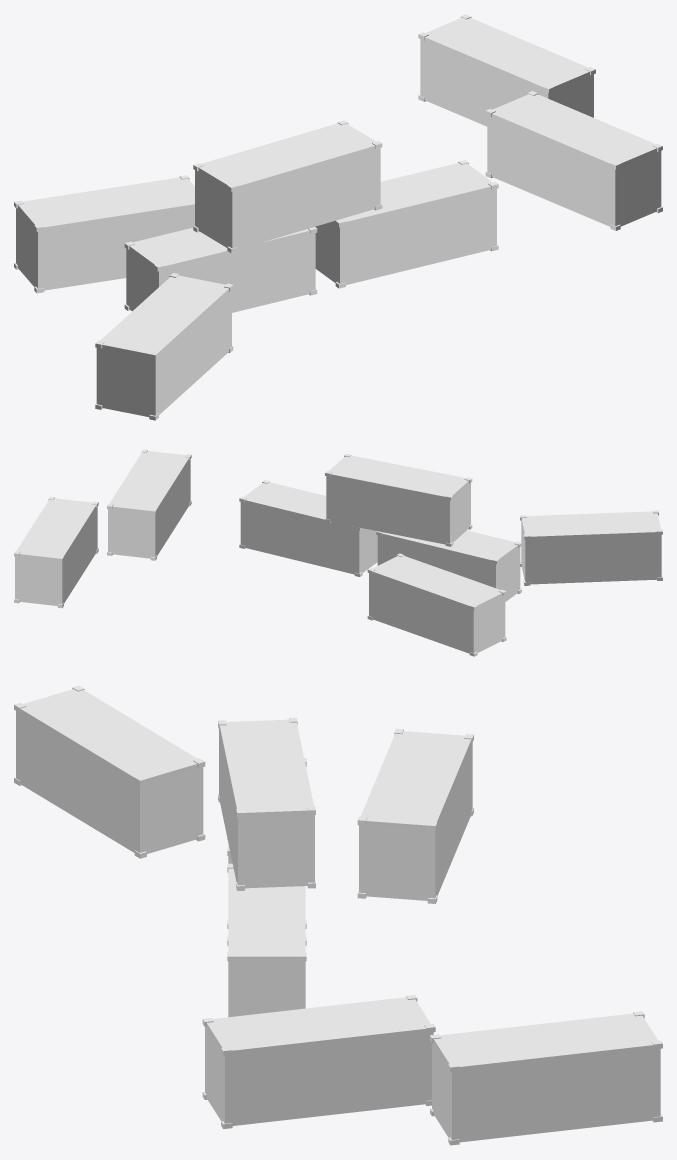
The model's file is Container1_Closed0.fbx.
The picture shows the model from 3 angles, top to bottom: view 1: azimuth 30°, elevation 25°; view 2: azimuth 150°, elevation 25°; view 3: azimuth 270°, elevation 25°; orthographic projection. The views are drawn at different scales.
Parts seen in each view (by area): view 1: Container1_Closed0; view 2: Container1_Closed0; view 3: Container1_Closed0.
Boxes of the visible parts, x1=… form: Container1_Closed0: x1=14, y1=14, x2=662, y2=420; Container1_Closed0: x1=14, y1=449, x2=662, y2=656; Container1_Closed0: x1=14, y1=685, x2=662, y2=1145.
Size of the model in its own units: 2804 by 2013 by 534.
